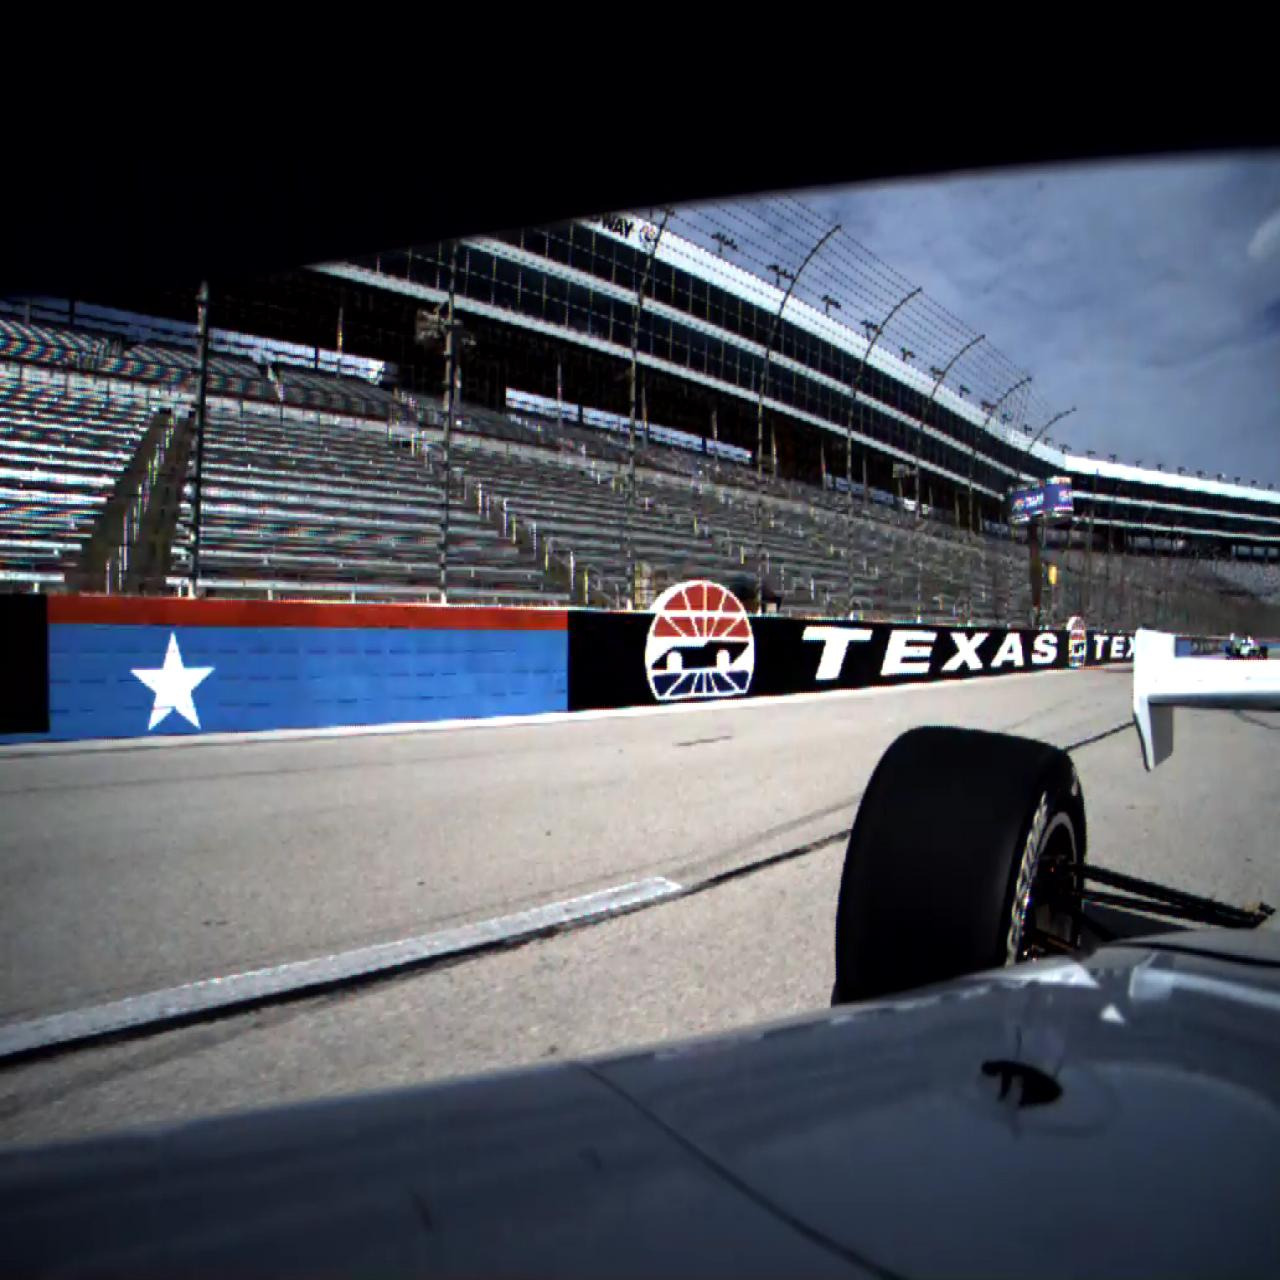AV: (1226, 633, 1268, 660)
Wheel: (836, 726, 1088, 990)
